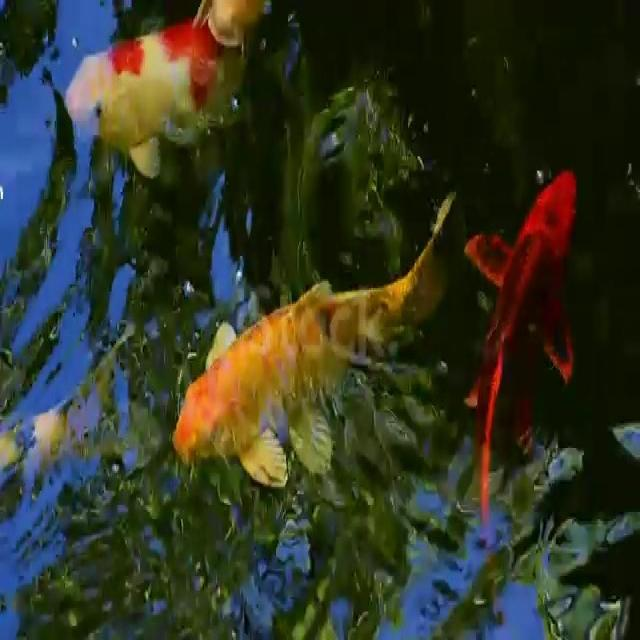fish: (177, 178, 478, 496), (465, 131, 584, 537), (56, 0, 282, 185)
